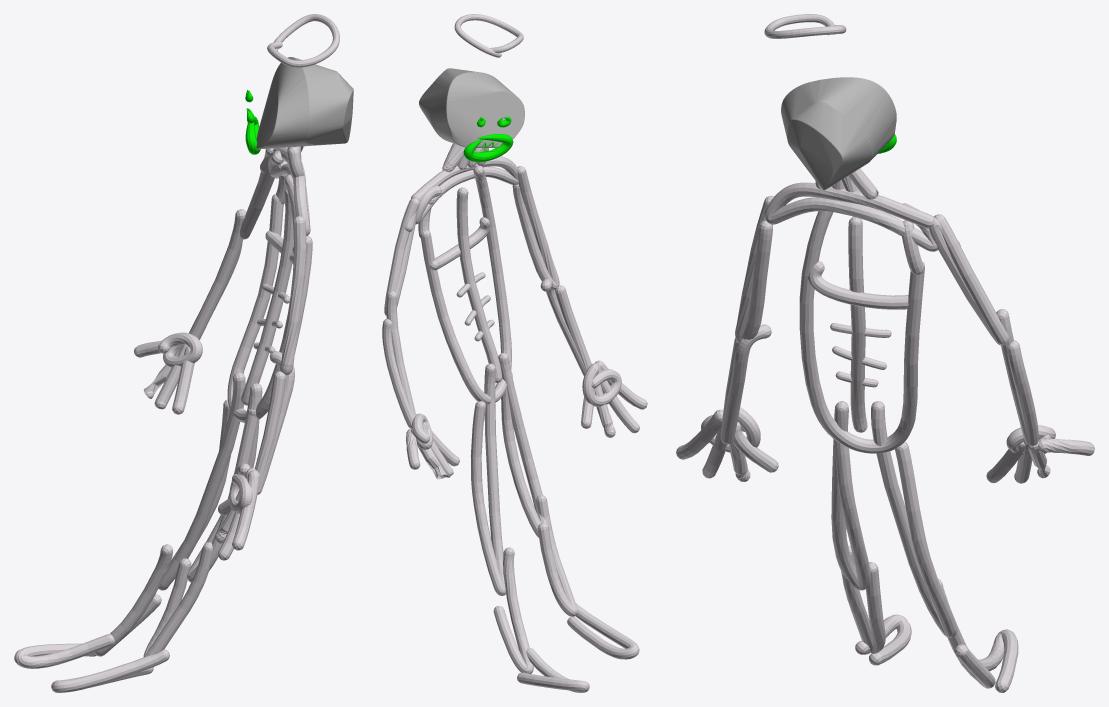
The model's file is angel.glb.
3 renders of one model, left to right at view 1: azimuth 30°, elevation 25°; view 2: azimuth 150°, elevation 25°; view 3: azimuth 270°, elevation 25°, orthographic. The views are drawn at different scales.
Visible parts, largest first — view 1: angel; view 2: angel; view 3: angel.
Boxes of the visible parts, x1,y1,x2,y2 form: angel: (14, 14, 353, 692); angel: (382, 14, 647, 692); angel: (676, 14, 1094, 692).
Size of the model in its own units: 0.6099 by 1.4 by 0.7102.
